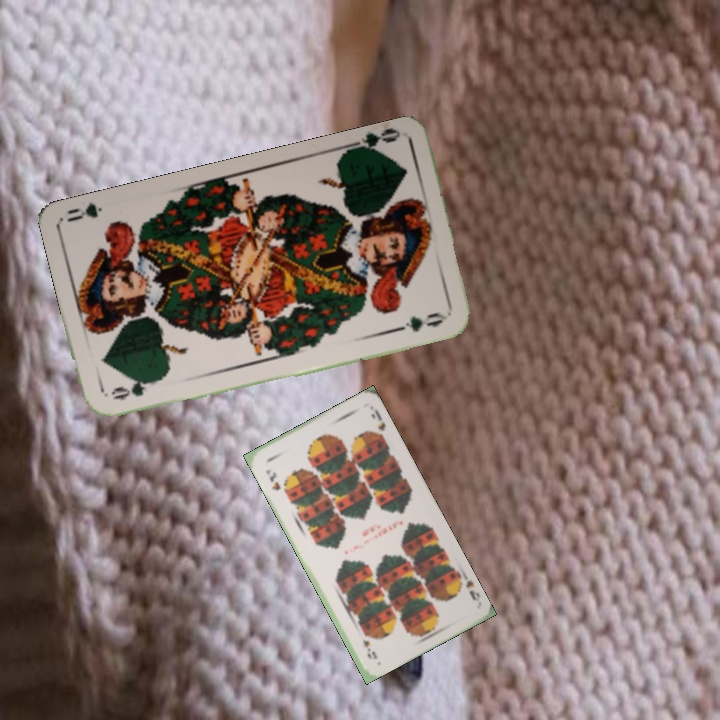GO: (343, 125, 402, 157), (107, 375, 163, 403)
S9: (454, 568, 483, 604), (262, 465, 283, 493)
